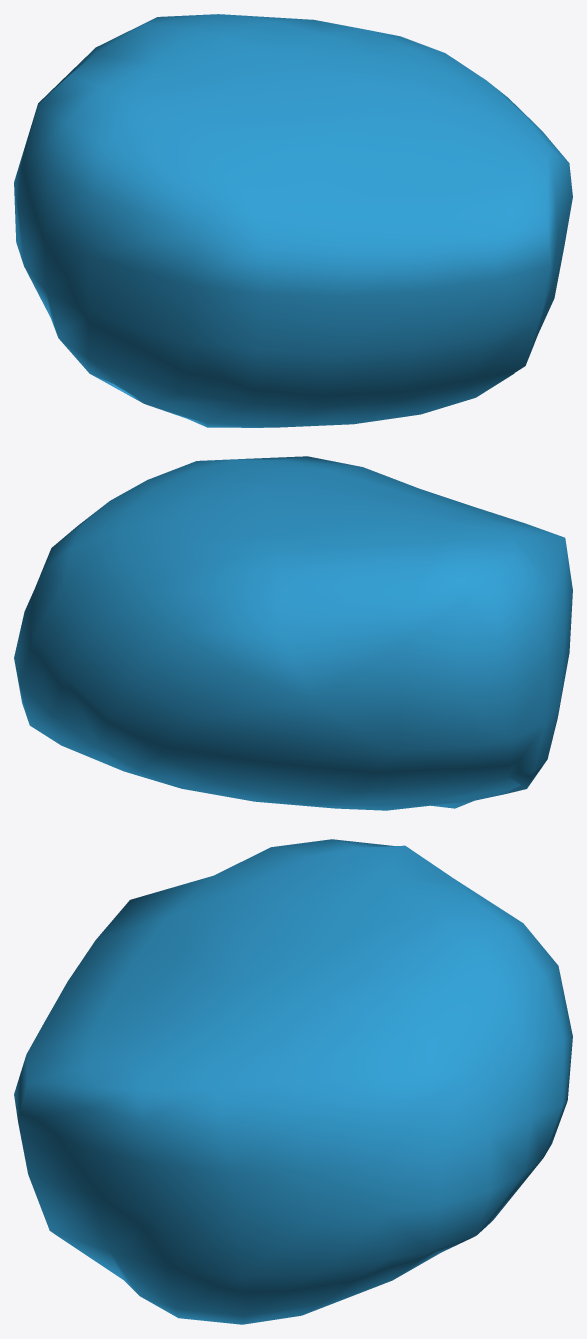
Rendered from Rock_S_05_Lod0.fbx.
3 renders of one model, top to bottom at view 1: azimuth 30°, elevation 25°; view 2: azimuth 150°, elevation 25°; view 3: azimuth 270°, elevation 25°, orthographic. The views are drawn at different scales.
Visible parts, largest first — view 1: Rock_S_05_Lod0; view 2: Rock_S_05_Lod0; view 3: Rock_S_05_Lod0.
Boxes of the visible parts, x1,y1,x2,y2 form: Rock_S_05_Lod0: [14, 14, 572, 427]; Rock_S_05_Lod0: [14, 456, 572, 810]; Rock_S_05_Lod0: [14, 839, 572, 1324].
Size of the model in its own units: 260 by 169 by 254.
